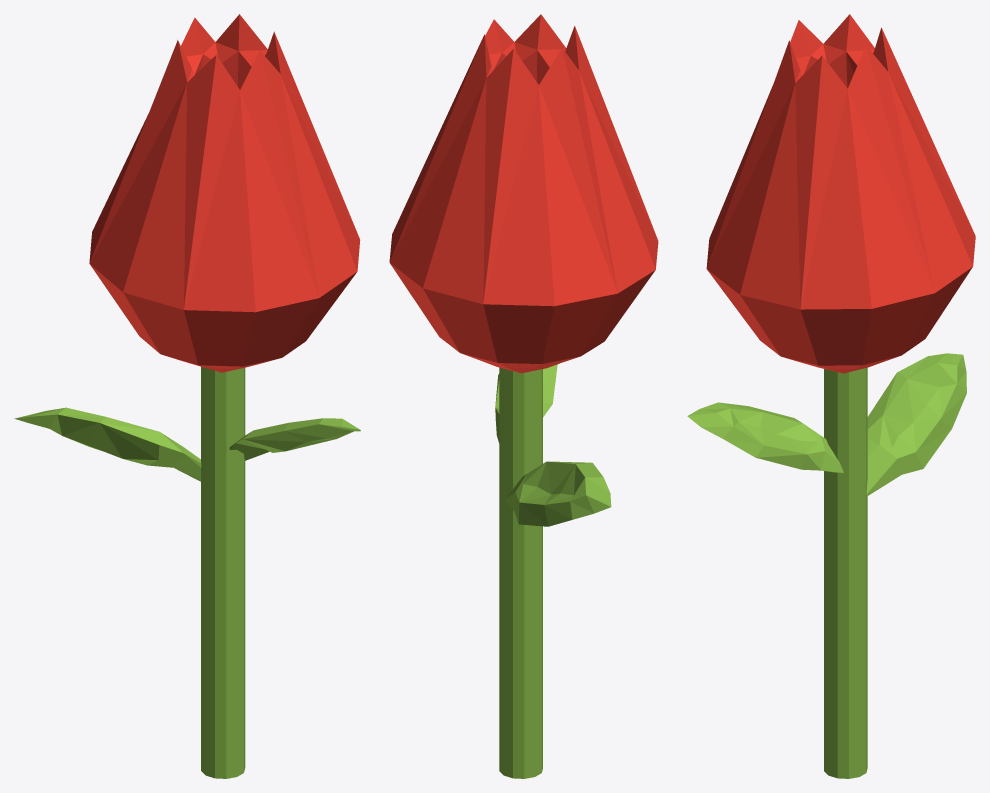
Rendered from tulip.glb.
3 renders of one model, left to right at view 1: azimuth 30°, elevation 25°; view 2: azimuth 150°, elevation 25°; view 3: azimuth 270°, elevation 25°, orthographic.
Parts seen in each view (by area): view 1: Node; view 2: Node; view 3: Node.
Part boxes in pixels (x1=…): Node: x1=14, y1=14, x2=360, y2=778; Node: x1=389, y1=14, x2=658, y2=778; Node: x1=687, y1=14, x2=975, y2=778.
Size of the model in its own units: 0.0928 by 0.2467 by 0.0875.
